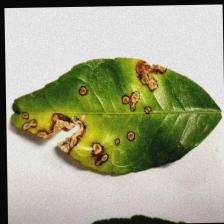canker: (12, 54, 174, 174)
